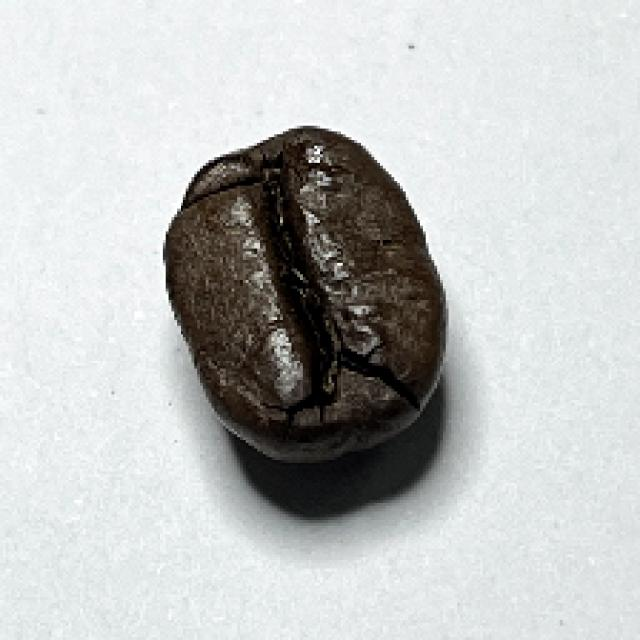bean: (157, 122, 450, 461)
